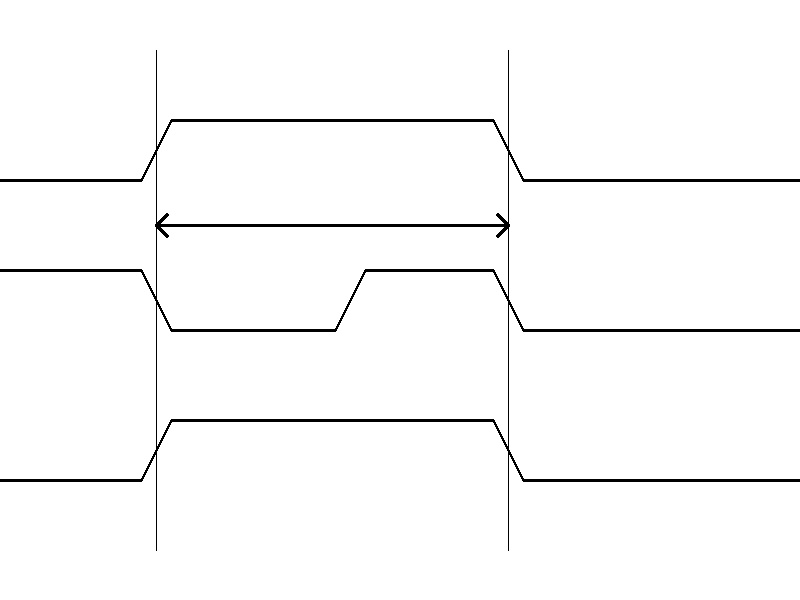double_arrow: (156, 210, 508, 240)
